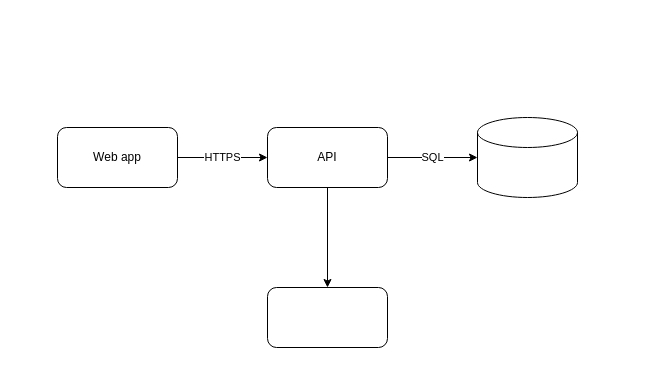
Image size: 654x365. Some labels were removed from this diagram. The centre of each missing label's shape, as x and y in pixels:
"Cache" belongs at pixel 327 317.
"Database" belongs at pixel 527 157.
